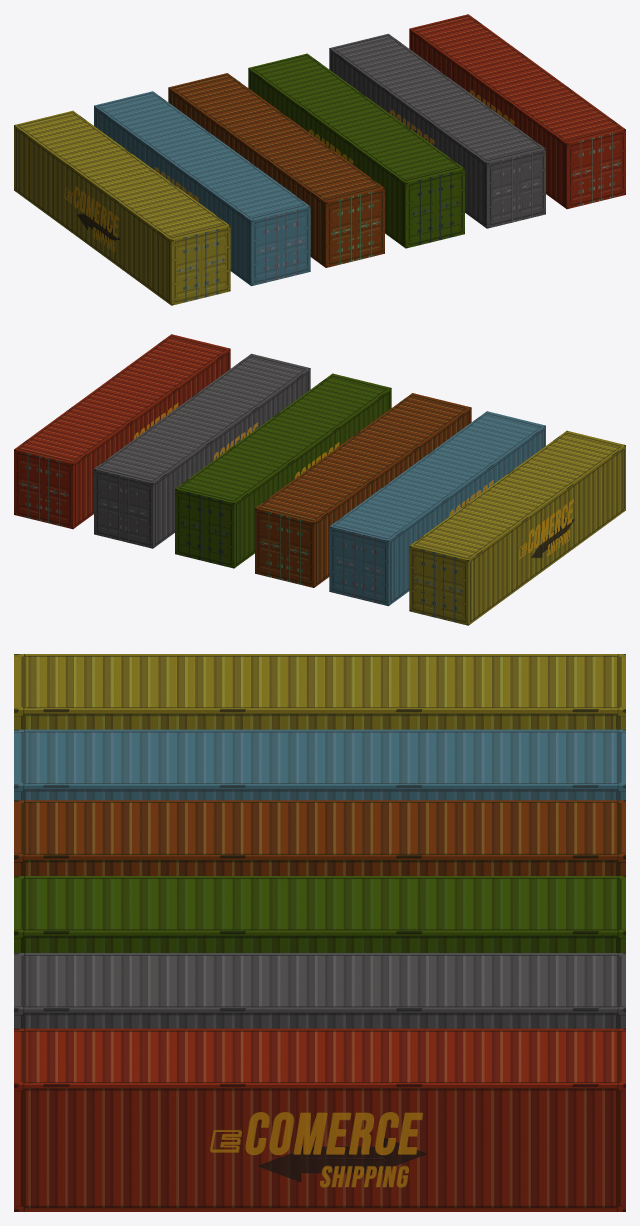
File: containers_estilo_ps1ps2.glb
The picture shows the model from 3 angles, top to bottom: view 1: azimuth 30°, elevation 25°; view 2: azimuth 150°, elevation 25°; view 3: azimuth 270°, elevation 25°; orthographic projection. The views are drawn at different scales.
Visible parts, largest first — view 1: Container.005, Container.001, Container.004, Container.002, Container, Container.003; view 2: Container.005, Container.001, Container.004, Container.002, Container, Container.003; view 3: Container, Container.002, Container.001, Container.003, Container.005, Container.004.
Boxes of the visible parts, x1=… form: Container.005: x1=14, y1=110, x2=230, y2=305; Container.001: x1=329, y1=33, x2=545, y2=228; Container.004: x1=94, y1=91, x2=310, y2=286; Container.002: x1=248, y1=53, x2=464, y2=248; Container: x1=409, y1=14, x2=625, y2=209; Container.003: x1=168, y1=73, x2=384, y2=267; Container.005: x1=409, y1=430, x2=625, y2=625; Container.001: x1=94, y1=353, x2=310, y2=548; Container.004: x1=329, y1=411, x2=545, y2=606; Container.002: x1=175, y1=373, x2=391, y2=568; Container: x1=14, y1=334, x2=230, y2=529; Container.003: x1=255, y1=393, x2=471, y2=587; Container: x1=14, y1=1028, x2=625, y2=1211; Container.002: x1=14, y1=876, x2=625, y2=952; Container.001: x1=14, y1=953, x2=625, y2=1028; Container.003: x1=14, y1=800, x2=625, y2=875; Container.005: x1=14, y1=654, x2=625, y2=729; Container.004: x1=14, y1=729, x2=625, y2=800.
Size of the model in its own units: 18.71 by 2.57 by 11.23.
Materials: 6 (6 with a texture image).
